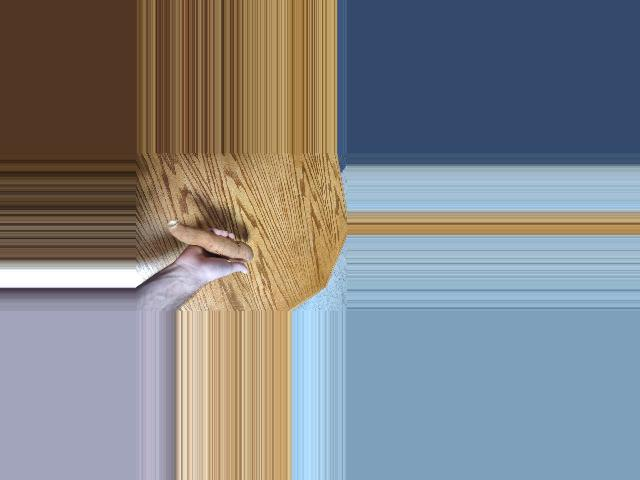sweet_potato: (165, 220, 253, 262)
